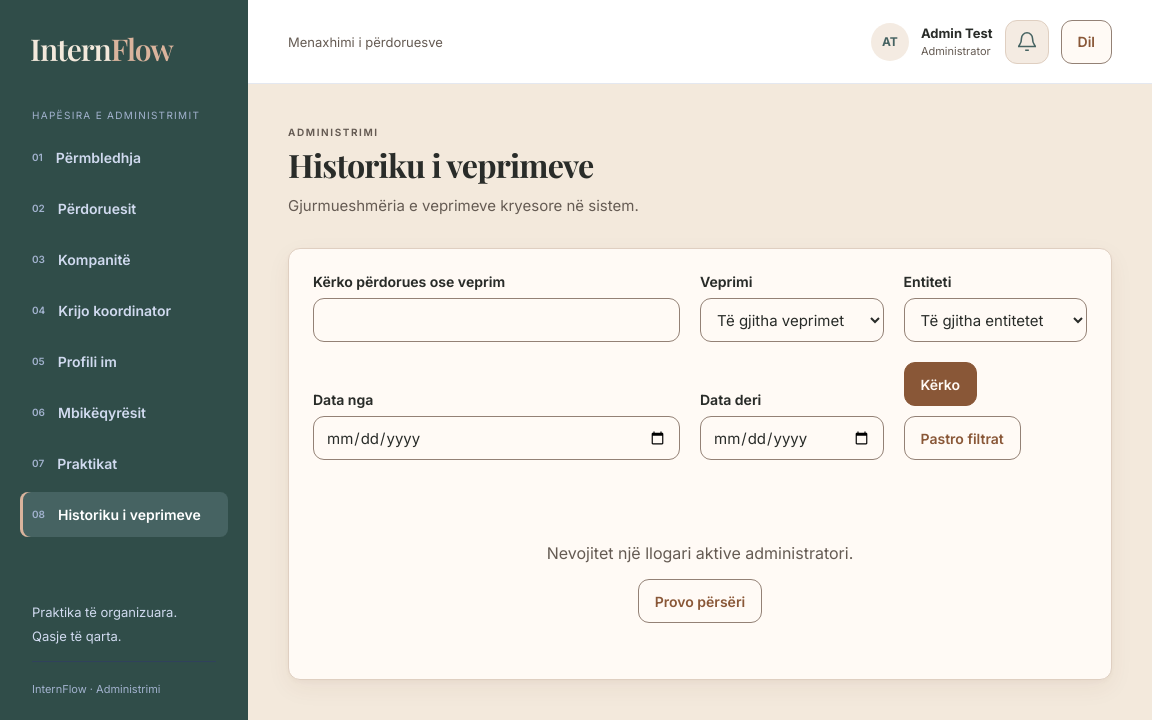
Test case: shows errors and supports retry without displaying stale rows
Expected: the message reads "Nevojitet një llogari aktive administratori.", [547,543,853,563]
Click the button "Provo përsëri" at (700, 601), box [638,579,762,623]
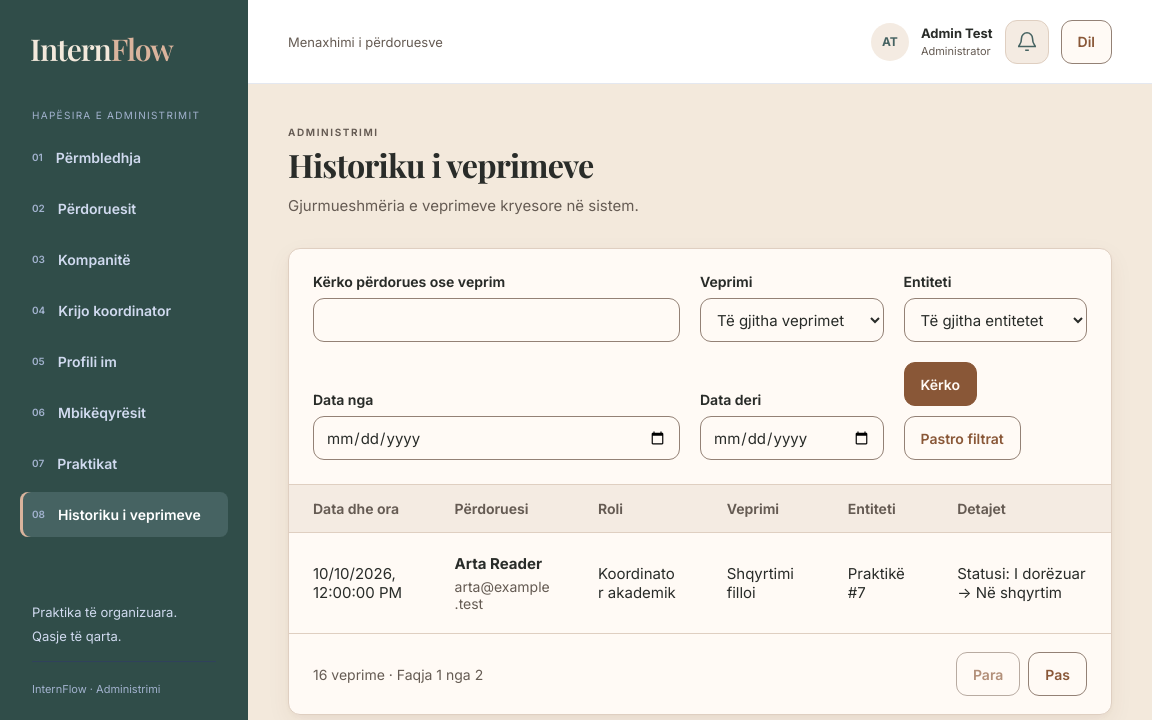
Result: the text "Arta Reader" is shown at [455,554,542,573]
